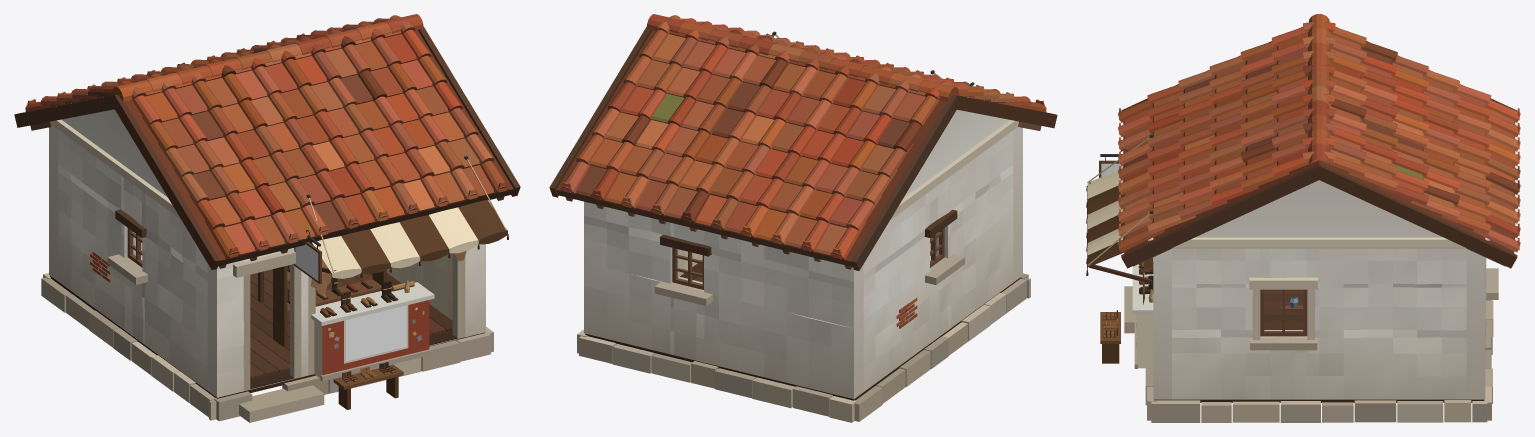
File: shop_cobbler.glb
3 renders of one model, left to right at view 1: azimuth 30°, elevation 25°; view 2: azimuth 150°, elevation 25°; view 3: azimuth 270°, elevation 25°, orthographic.
Parts seen in each view (by area): view 1: House, Walls, Rooms; view 2: House, Walls; view 3: House, Walls, Rooms.
Part boxes in pixels (<box>): House: <box>14,14,520,422</box>; Walls: <box>49,109,485,397</box>; Rooms: <box>141,237,452,379</box>; House: <box>549,14,1057,422</box>; Walls: <box>584,109,1022,398</box>; House: <box>1086,14,1520,422</box>; Walls: <box>1153,180,1486,399</box>; Rooms: <box>1264,289,1303,329</box>.
Bounding box in the file's own units: 4.09 × 3.48 × 5.1.
7 materials, 7 textured.
